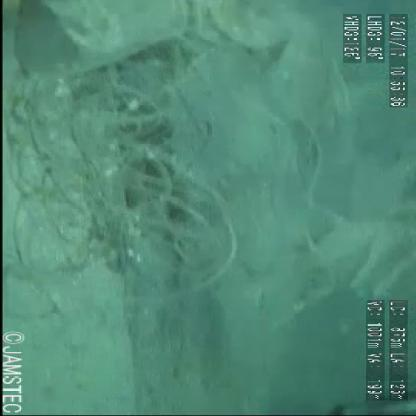Rác: (348, 293, 413, 404)
